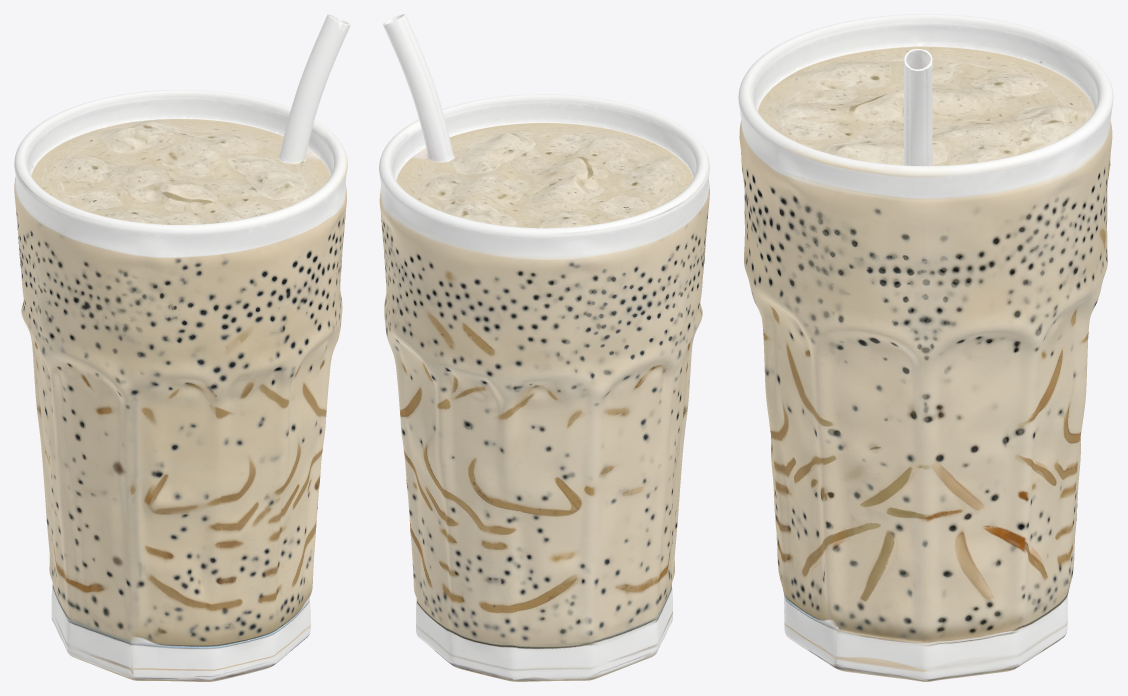
Rendered from Meshy_AI_alouda_milkshake_glas_0722035711_image-to-3d-texture-v1.glb.
The picture shows the model from 3 angles, left to right: view 1: azimuth 30°, elevation 25°; view 2: azimuth 150°, elevation 25°; view 3: azimuth 270°, elevation 25°; orthographic projection. The views are drawn at different scales.
Bounding box in the file's own units: 1.05 × 1.9 × 0.9811.
1 material, 1 textured.
